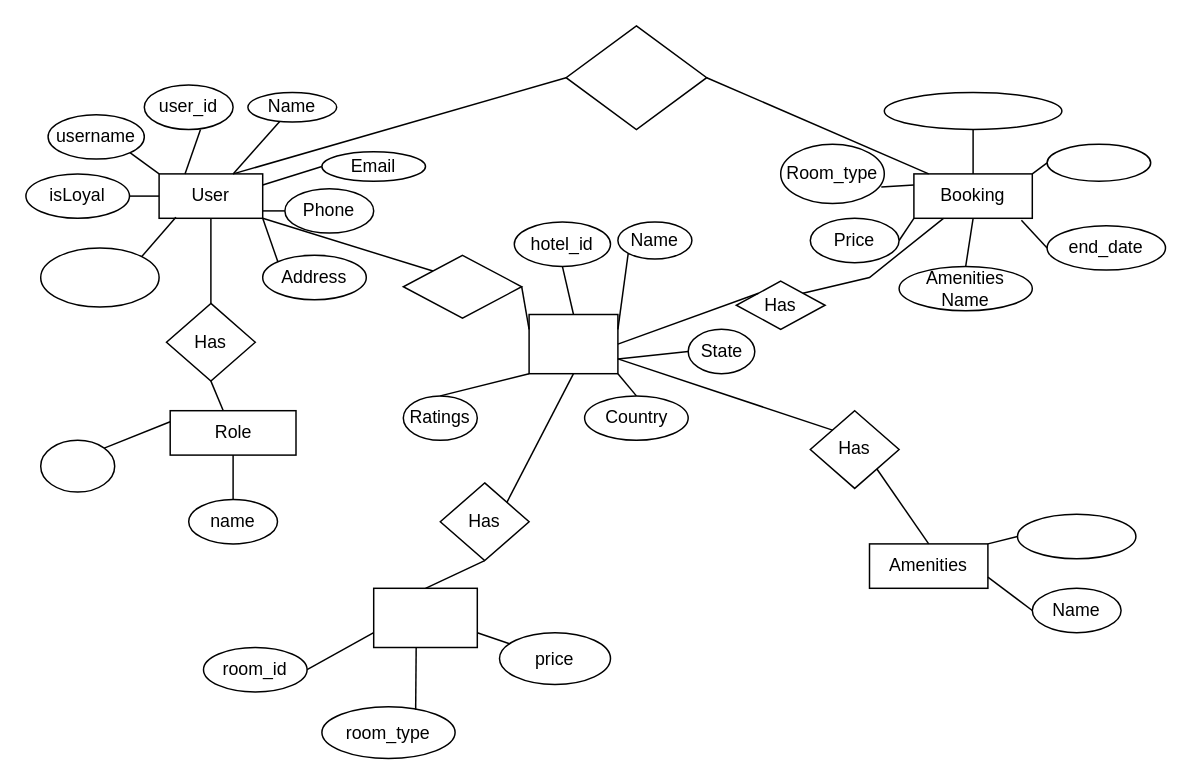
The diagram is 1191 pixels wide and 784 high, and some of its shapes have lost their labels. Here are the shapes that lost their labels. From the top down, the centre of each, then its label:
At (636,77): "Has/Confirms".
At (972,110): "booking_id".
At (1098,162): "start_date".
At (99,276): "RewardPoints".
At (462,286): "Search".
At (573,343): "Hotel".
At (77,465): "role_id".
At (1076,536): "amenities_id".
At (424,617): "Rooms".
